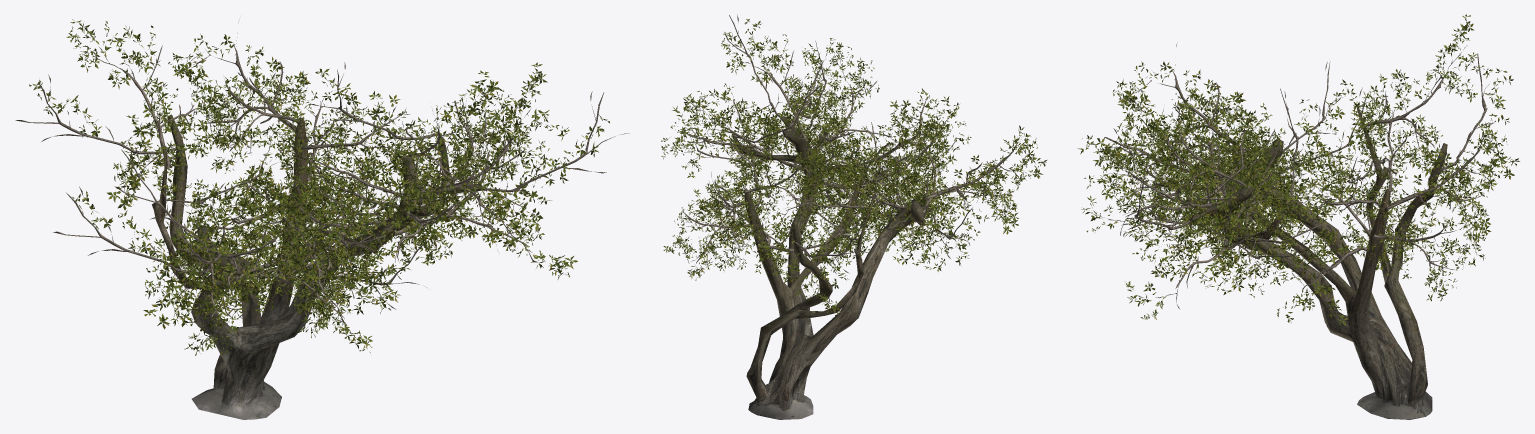
Rendered from island_tree_02.glb.
3 renders of one model, left to right at view 1: azimuth 30°, elevation 25°; view 2: azimuth 150°, elevation 25°; view 3: azimuth 270°, elevation 25°, orthographic. The views are drawn at different scales.
Visible parts, largest first — view 1: island_tree_02_LOD0; view 2: island_tree_02_LOD0; view 3: island_tree_02_LOD0.
Part boxes in pixels (x1,y1,x2,y2): island_tree_02_LOD0: (15,19,629,419); island_tree_02_LOD0: (661,14,1046,419); island_tree_02_LOD0: (1077,14,1519,419).
Bounding box in the file's own units: 4.21 × 3.4 × 4.07.
3 materials, 3 textured.
